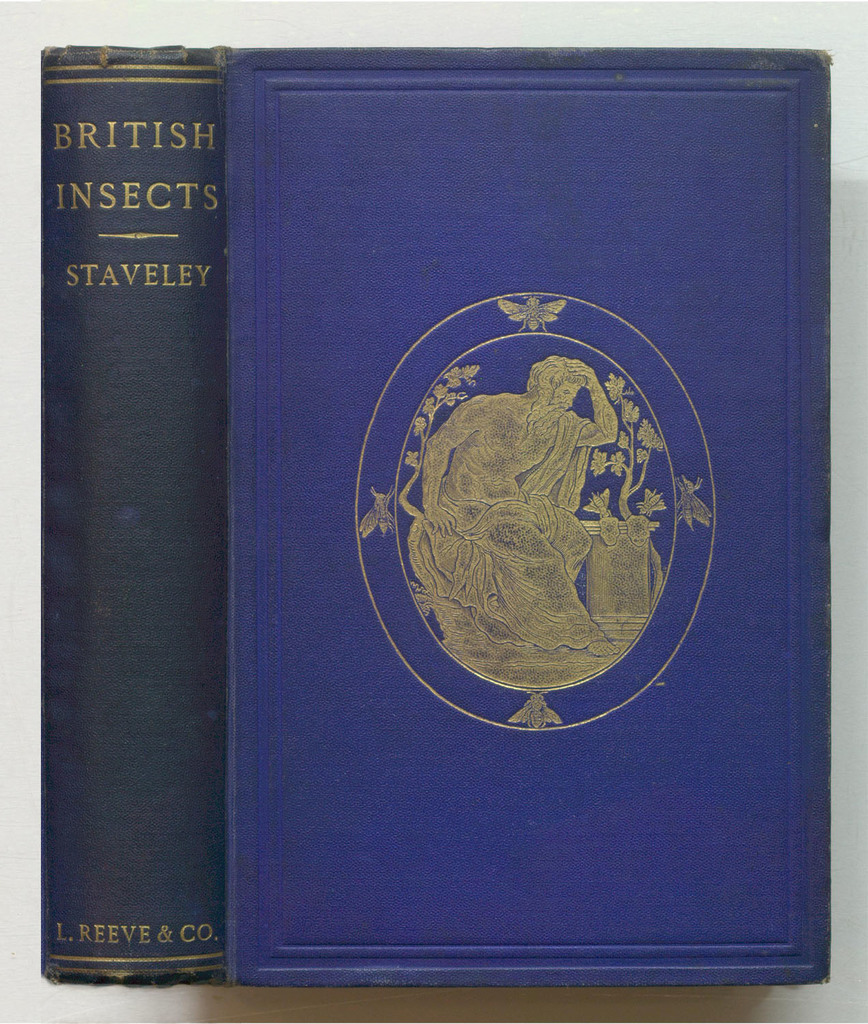Book: (20, 44, 810, 959)
